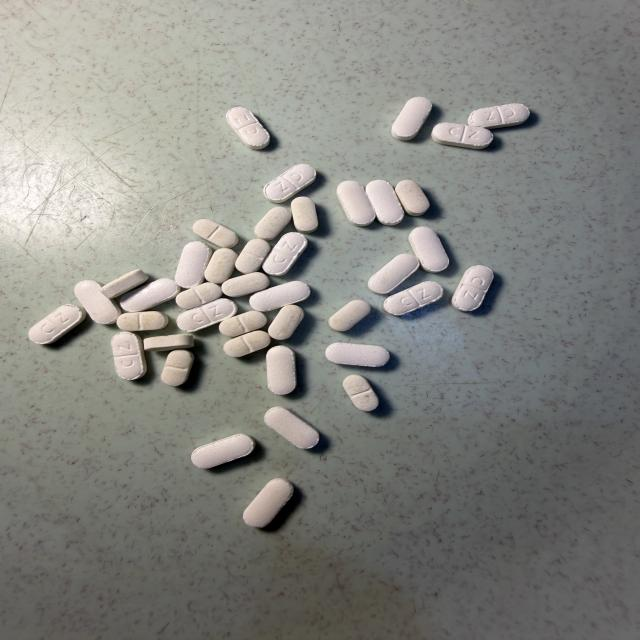pill: (243, 478, 293, 527), (264, 407, 319, 448), (29, 304, 85, 344), (191, 434, 255, 468), (74, 280, 121, 324), (368, 254, 419, 294), (264, 164, 316, 203), (384, 281, 443, 315), (120, 279, 180, 312), (263, 232, 307, 276), (177, 299, 237, 331), (452, 266, 493, 311), (249, 281, 310, 311), (227, 107, 270, 149), (409, 227, 449, 272), (392, 97, 432, 140), (337, 181, 375, 226), (366, 180, 404, 225), (175, 242, 212, 288), (111, 332, 146, 380), (432, 123, 493, 149), (468, 104, 529, 128), (326, 343, 389, 366), (266, 346, 296, 394), (101, 269, 148, 298), (328, 300, 370, 331), (343, 375, 379, 411), (193, 219, 238, 247), (219, 311, 267, 337), (176, 282, 222, 309), (269, 305, 304, 340), (254, 207, 291, 240), (222, 272, 270, 297), (224, 331, 270, 357), (236, 239, 271, 273), (395, 180, 429, 215), (161, 350, 194, 386), (205, 249, 237, 284), (117, 311, 168, 331), (291, 197, 318, 233), (144, 334, 193, 351)
